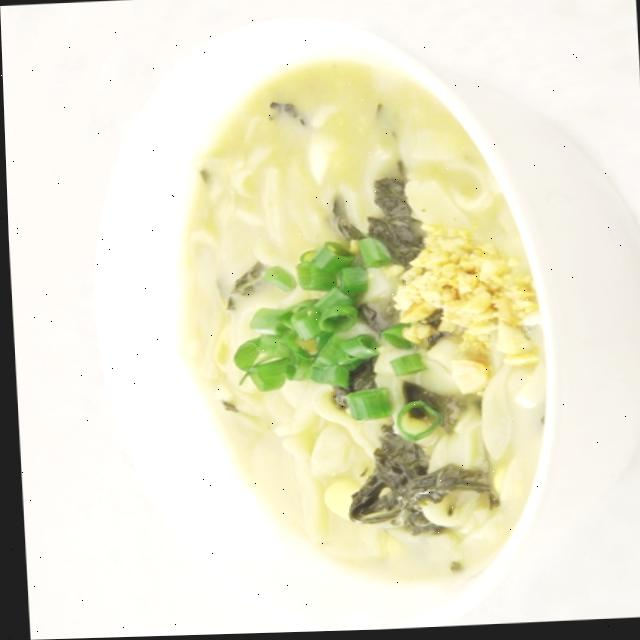面条主食: (69, 25, 640, 638)
